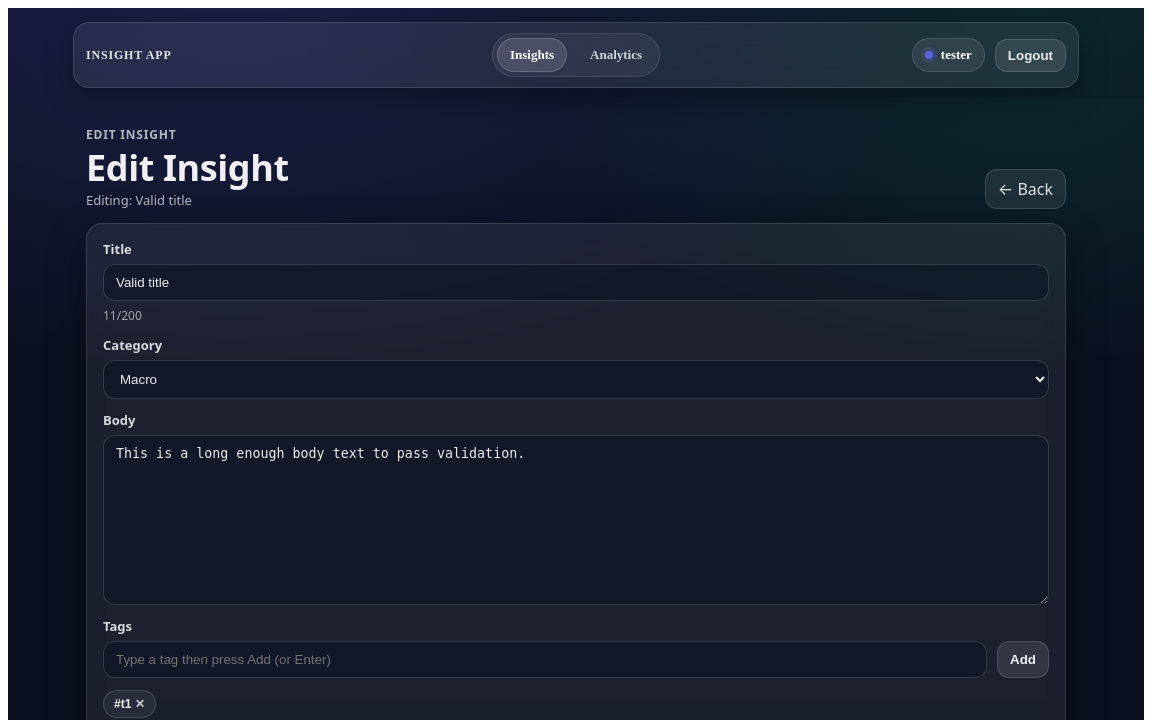
it: InsightEditPage › shows client validation errors and prevents submit
Expected: the heading "Edit Insight" is shown, [86,149,289,187]
Clear the field with placeholder "5–200 characters". click: [576, 282]
box: [103,264,1049,301]
(page scrolled)
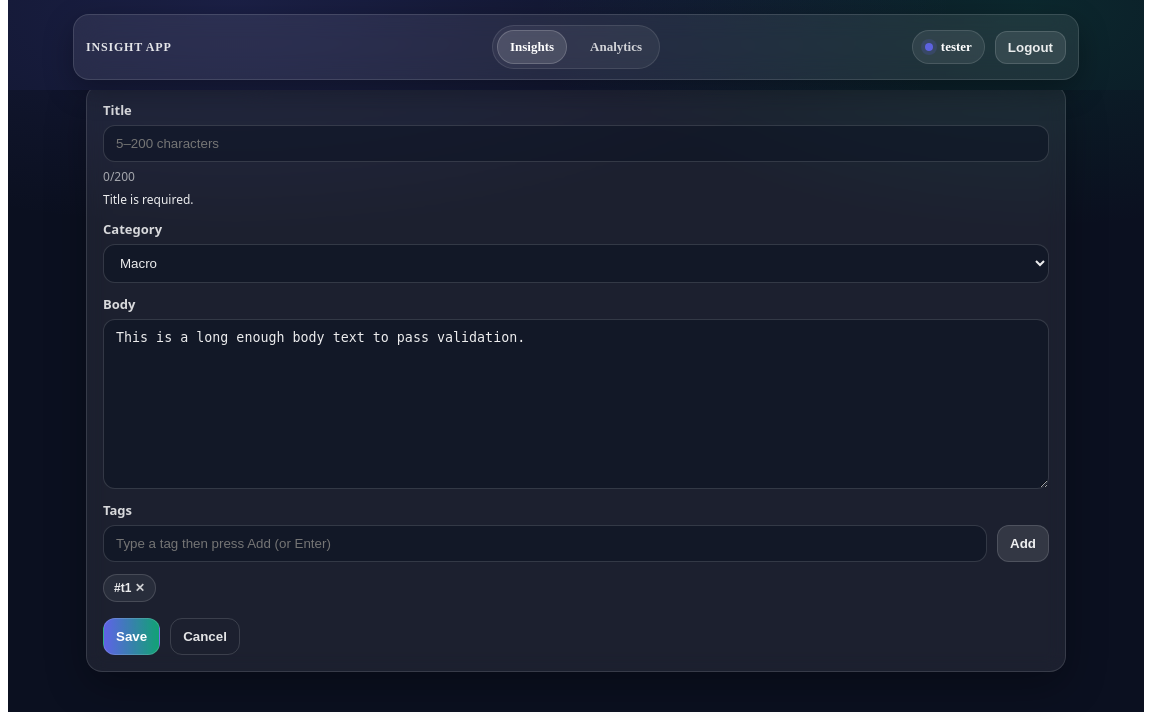
Now the button "Save" is disabled, box [103,618,160,655]
